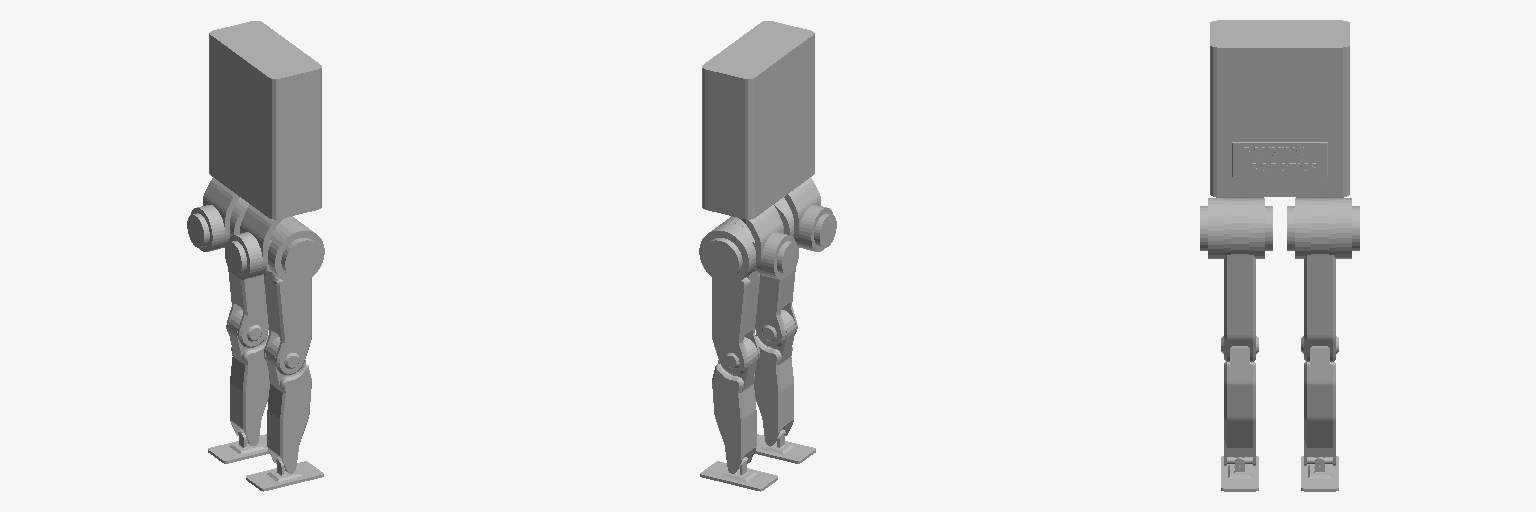
robot.urdf — dwarf:
<?xml version="1.0" encoding="utf-8"?>
<robot
  name="dwarf">
  <link
    name="base_link">
    <inertial>
      <origin
        xyz="0.0068392 1.0436E-05 0.083505"
        rpy="0 0 0" />
      <mass
        value="2.6893" />
      <inertia
        ixx="0.0098058"
        ixy="4.9971E-08"
        ixz="9.4482E-05"
        iyy="0.0053708"
        iyz="2.3438E-09"
        izz="0.0071985" />
    </inertial>
    <visual>
      <origin
        xyz="0 0 0"
        rpy="0 0 0" />
      <geometry>
        <mesh
          filename="package://description/model/urdf/dwarf/meshes/base_link.STL" />
      </geometry>
      <material
        name="">
        <color
          rgba="0.75294 0.75294 0.75294 1" />
      </material>
    </visual>
    <collision>
      <origin
        xyz="0 0 0"
        rpy="0 0 0" />
      <geometry>
        <mesh
          filename="package://description/model/urdf/dwarf/meshes/base_link.STL" />
      </geometry>
    </collision>
  </link>
  <link
    name="l_hip_z_link">
    <inertial>
      <origin
        xyz="-0.064817 6.9619E-08 0.014495"
        rpy="0 0 0" />
      <mass
        value="0.52548" />
      <inertia
        ixx="0.00046561"
        ixy="5.5145E-10"
        ixz="-7.8365E-05"
        iyy="0.00038979"
        iyz="7.8212E-10"
        izz="0.00030048" />
    </inertial>
    <visual>
      <origin
        xyz="0 0 0"
        rpy="0 0 0" />
      <geometry>
        <mesh
          filename="package://description/model/urdf/dwarf/meshes/l_hip_z_link.STL" />
      </geometry>
      <material
        name="">
        <color
          rgba="0.75294 0.75294 0.75294 1" />
      </material>
    </visual>
    <collision>
      <origin
        xyz="0 0 0"
        rpy="0 0 0" />
      <geometry>
        <mesh
          filename="package://description/model/urdf/dwarf/meshes/l_hip_z_link.STL" />
      </geometry>
    </collision>
  </link>
  <joint
    name="l_hip_z_joint"
    type="revolute">
    <origin
      xyz="0 0.0625 -0.0976"
      rpy="0 0 0" />
    <parent
      link="base_link" />
    <child
      link="l_hip_z_link" />
    <axis
      xyz="0 0 1" />
    <limit
      lower="-0.785"
      upper="0.785"
      effort="6"
      velocity="20" />
  </joint>
  <link
    name="l_hip_x_link">
    <inertial>
      <origin
        xyz="-0.0027836 0.03675 -2.2289E-08"
        rpy="0 0 0" />
      <mass
        value="0.68764" />
      <inertia
        ixx="0.00043068"
        ixy="-1.5772E-05"
        ixz="-5.2661E-10"
        iyy="0.00076066"
        iyz="-2.1988E-10"
        izz="0.00047342" />
    </inertial>
    <visual>
      <origin
        xyz="0 0 0"
        rpy="0 0 0" />
      <geometry>
        <mesh
          filename="package://description/model/urdf/dwarf/meshes/l_hip_x_link.STL" />
      </geometry>
      <material
        name="">
        <color
          rgba="0.75294 0.75294 0.75294 1" />
      </material>
    </visual>
    <collision>
      <origin
        xyz="0 0 0"
        rpy="0 0 0" />
      <geometry>
        <mesh
          filename="package://description/model/urdf/dwarf/meshes/l_hip_x_link.STL" />
      </geometry>
    </collision>
  </link>
  <joint
    name="l_hip_x_joint"
    type="revolute">
    <origin
      xyz="0 0 0"
      rpy="0 0 0" />
    <parent
      link="l_hip_z_link" />
    <child
      link="l_hip_x_link" />
    <axis
      xyz="1 0 0" />
    <limit
      lower="-0.523"
      upper="0.785"
      effort="8"
      velocity="20" />
  </joint>
  <link
    name="l_hip_y_link">
    <inertial>
      <origin
        xyz="0.00124509715095543 -0.0181108406254454 -0.0268215324144253"
        rpy="0 0 0" />
      <mass
        value="0.879426303698116" />
      <inertia
        ixx="0.00155905784910185"
        ixy="-4.01402271672183E-07"
        ixz="5.23750882569672E-05"
        iyy="0.00190482718607552"
        iyz="5.56322294870322E-06"
        izz="0.000487525681425297" />
    </inertial>
    <visual>
      <origin
        xyz="0 0 0"
        rpy="0 0 0" />
      <geometry>
        <mesh
          filename="package://description/model/urdf/dwarf/meshes/l_hip_y_link.STL" />
      </geometry>
      <material
        name="">
        <color
          rgba="0.752941176470588 0.752941176470588 0.752941176470588 1" />
      </material>
    </visual>
    <collision>
      <origin
        xyz="0 0 0"
        rpy="0 0 0" />
      <geometry>
        <mesh
          filename="package://description/model/urdf/dwarf/meshes/l_hip_y_link.STL" />
      </geometry>
    </collision>
  </link>
  <joint
    name="l_hip_y_joint"
    type="revolute">
    <origin
      xyz="0 0 0"
      rpy="0 0 0" />
    <parent
      link="l_hip_x_link" />
    <child
      link="l_hip_y_link" />
    <axis
      xyz="0 1 0" />
    <limit
      lower="-2.024"
      upper="0.5"
      effort="8"
      velocity="20" />
  </joint>
  <link
    name="l_knee_y_link">
    <inertial>
      <origin
        xyz="0.00710245391866418 0.000839155677053054 -0.0757645032512213"
        rpy="0 0 0" />
      <mass
        value="0.527089426699505" />
      <inertia
        ixx="0.000704915216416722"
        ixy="-4.76265439760832E-07"
        ixz="-1.86316764480535E-05"
        iyy="0.000782426869890322"
        iyz="2.16462639835199E-06"
        izz="0.000129570094293804" />
    </inertial>
    <visual>
      <origin
        xyz="0 0 0"
        rpy="0 0 0" />
      <geometry>
        <mesh
          filename="package://description/model/urdf/dwarf/meshes/l_knee_y_link.STL" />
      </geometry>
      <material
        name="">
        <color
          rgba="0.752941176470588 0.752941176470588 0.752941176470588 1" />
      </material>
    </visual>
    <collision>
      <origin
        xyz="0 0 0"
        rpy="0 0 0" />
      <geometry>
        <mesh
          filename="package://description/model/urdf/dwarf/meshes/l_knee_y_link.STL" />
      </geometry>
    </collision>
  </link>
  <joint
    name="l_knee_y_joint"
    type="revolute">
    <origin
      xyz="0 0 -0.2"
      rpy="0 0 0" />
    <parent
      link="l_hip_y_link" />
    <child
      link="l_knee_y_link" />
    <axis
      xyz="0 1 0" />
    <limit
      lower="0"
      upper="2.2"
      effort="12"
      velocity="20" />
  </joint>
  <link
    name="l_ankle_y_link">
    <inertial>
      <origin
        xyz="-3.56954424352018E-10 -5.9963648352257E-09 -1.47393208749236E-12"
        rpy="0 0 0" />
      <mass
        value="0.010913832988473" />
      <inertia
        ixx="1.90596155834406E-06"
        ixy="5.77039537176499E-16"
        ixz="-8.73480369999165E-13"
        iyy="1.10485071159351E-07"
        iyz="2.29287942233869E-13"
        izz="1.92371341930651E-06" />
    </inertial>
    <visual>
      <origin
        xyz="0 0 0"
        rpy="0 0 0" />
      <geometry>
        <mesh
          filename="package://description/model/urdf/dwarf/meshes/l_ankle_y_link.STL" />
      </geometry>
      <material
        name="">
        <color
          rgba="0.752941176470588 0.752941176470588 0.752941176470588 1" />
      </material>
    </visual>
    <collision>
      <origin
        xyz="0 0 0"
        rpy="0 0 0" />
      <geometry>
        <mesh
          filename="package://description/model/urdf/dwarf/meshes/l_ankle_y_link.STL" />
      </geometry>
    </collision>
  </link>
  <joint
    name="l_ankle_y_joint"
    type="revolute">
    <origin
      xyz="0 0 -0.2"
      rpy="0 0 0" />
    <parent
      link="l_knee_y_link" />
    <child
      link="l_ankle_y_link" />
    <axis
      xyz="0 1 0" />
    <limit
      lower="-1.134"
      upper="0.872"
      effort="2"
      velocity="20" />
  </joint>
  <link
    name="l_ankle_x_link">
    <inertial>
      <origin
        xyz="-0.00128648028692233 5.55374695537791E-09 -0.0184464108832921"
        rpy="0 0 0" />
      <mass
        value="0.05976663040582" />
      <inertia
        ixx="1.55718211567763E-05"
        ixy="4.61604480722049E-12"
        ixz="9.54984081587471E-07"
        iyy="5.62428903887595E-05"
        iyz="5.81985939474174E-12"
        izz="6.82858061214022E-05" />
    </inertial>
    <visual>
      <origin
        xyz="0 0 0"
        rpy="0 0 0" />
      <geometry>
        <mesh
          filename="package://description/model/urdf/dwarf/meshes/l_ankle_x_link.STL" />
      </geometry>
      <material
        name="">
        <color
          rgba="0.752941176470588 0.752941176470588 0.752941176470588 1" />
      </material>
    </visual>
    <collision>
      <origin
        xyz="0 0 0"
        rpy="0 0 0" />
      <geometry>
        <mesh
          filename="package://description/model/urdf/dwarf/meshes/l_ankle_x_link.STL" />
      </geometry>
    </collision>
  </link>
  <joint
    name="l_ankle_x_joint"
    type="revolute">
    <origin
      xyz="0 0 0"
      rpy="0 0 0" />
    <parent
      link="l_ankle_y_link" />
    <child
      link="l_ankle_x_link" />
    <axis
      xyz="1 0 0" />
    <limit
      lower="-0.349"
      upper="0.349"
      effort="1"
      velocity="20" />
  </joint>
  <link
    name="r_hip_z_link">
    <inertial>
      <origin
        xyz="-0.0648171153102327 6.96192279936447E-08 0.0144946835968221"
        rpy="0 0 0" />
      <mass
        value="0.525478813265369" />
      <inertia
        ixx="0.000465614047867923"
        ixy="5.51447244204261E-10"
        ixz="-7.83647581842767E-05"
        iyy="0.000389794744504201"
        iyz="7.82119931452291E-10"
        izz="0.000300483764018686" />
    </inertial>
    <visual>
      <origin
        xyz="0 0 0"
        rpy="0 0 0" />
      <geometry>
        <mesh
          filename="package://description/model/urdf/dwarf/meshes/r_hip_z_link.STL" />
      </geometry>
      <material
        name="">
        <color
          rgba="0.752941176470588 0.752941176470588 0.752941176470588 1" />
      </material>
    </visual>
    <collision>
      <origin
        xyz="0 0 0"
        rpy="0 0 0" />
      <geometry>
        <mesh
          filename="package://description/model/urdf/dwarf/meshes/r_hip_z_link.STL" />
      </geometry>
    </collision>
  </link>
  <joint
    name="r_hip_z_joint"
    type="revolute">
    <origin
      xyz="0 -0.0625 -0.0976"
      rpy="0 0 0" />
    <parent
      link="base_link" />
    <child
      link="r_hip_z_link" />
    <axis
      xyz="0 0 1" />
    <limit
      lower="-0.785"
      upper="0.785"
      effort="6"
      velocity="20" />
  </joint>
  <link
    name="r_hip_x_link">
    <inertial>
      <origin
        xyz="-0.00278359797173064 -0.0367495625913438 2.22895785162436E-08"
        rpy="0 0 0" />
      <mass
        value="0.687640451875291" />
      <inertia
        ixx="0.000430678234824923"
        ixy="1.57720977537199E-05"
        ixz="5.2660852310129E-10"
        iyy="0.000760658296850431"
        iyz="-2.19876655846566E-10"
        izz="0.000473424899030397" />
    </inertial>
    <visual>
      <origin
        xyz="0 0 0"
        rpy="0 0 0" />
      <geometry>
        <mesh
          filename="package://description/model/urdf/dwarf/meshes/r_hip_x_link.STL" />
      </geometry>
      <material
        name="">
        <color
          rgba="0.752941176470588 0.752941176470588 0.752941176470588 1" />
      </material>
    </visual>
    <collision>
      <origin
        xyz="0 0 0"
        rpy="0 0 0" />
      <geometry>
        <mesh
          filename="package://description/model/urdf/dwarf/meshes/r_hip_x_link.STL" />
      </geometry>
    </collision>
  </link>
  <joint
    name="r_hip_x_joint"
    type="revolute">
    <origin
      xyz="0 0 0"
      rpy="0 0 0" />
    <parent
      link="r_hip_z_link" />
    <child
      link="r_hip_x_link" />
    <axis
      xyz="1 0 0" />
    <limit
      lower="-0.785"
      upper="0.523"
      effort="8"
      velocity="20" />
  </joint>
  <link
    name="r_hip_y_link">
    <inertial>
      <origin
        xyz="0.00179738911658307 0.0181105143205143 -0.0267542682581269"
        rpy="0 0 0" />
      <mass
        value="0.879425956734143" />
      <inertia
        ixx="0.00156016615153423"
        ixy="5.80391068939658E-07"
        ixz="4.23499263659916E-05"
        iyy="0.00190482779168223"
        iyz="-5.67513436727745E-06"
        izz="0.000486418482301438" />
    </inertial>
    <visual>
      <origin
        xyz="0 0 0"
        rpy="0 0 0" />
      <geometry>
        <mesh
          filename="package://description/model/urdf/dwarf/meshes/r_hip_y_link.STL" />
      </geometry>
      <material
        name="">
        <color
          rgba="0.752941176470588 0.752941176470588 0.752941176470588 1" />
      </material>
    </visual>
    <collision>
      <origin
        xyz="0 0 0"
        rpy="0 0 0" />
      <geometry>
        <mesh
          filename="package://description/model/urdf/dwarf/meshes/r_hip_y_link.STL" />
      </geometry>
    </collision>
  </link>
  <joint
    name="r_hip_y_joint"
    type="revolute">
    <origin
      xyz="0 0 0"
      rpy="0 0 0" />
    <parent
      link="r_hip_x_link" />
    <child
      link="r_hip_y_link" />
    <axis
      xyz="0 1 0" />
    <limit
      lower="-2.024"
      upper="0.5"
      effort="8"
      velocity="20" />
  </joint>
  <link
    name="r_knee_y_link">
    <inertial>
      <origin
        xyz="0.00710245415213927 -0.000839155493262508 -0.0757645080168379"
        rpy="0 0 0" />
      <mass
        value="0.527089463148088" />
      <inertia
        ixx="0.0007049163677575"
        ixy="4.76972544940647E-07"
        ixz="-1.86318427389797E-05"
        iyy="0.000782426133909345"
        iyz="-2.16470454419427E-06"
        izz="0.000129570125586677" />
    </inertial>
    <visual>
      <origin
        xyz="0 0 0"
        rpy="0 0 0" />
      <geometry>
        <mesh
          filename="package://description/model/urdf/dwarf/meshes/r_knee_y_link.STL" />
      </geometry>
      <material
        name="">
        <color
          rgba="0.752941176470588 0.752941176470588 0.752941176470588 1" />
      </material>
    </visual>
    <collision>
      <origin
        xyz="0 0 0"
        rpy="0 0 0" />
      <geometry>
        <mesh
          filename="package://description/model/urdf/dwarf/meshes/r_knee_y_link.STL" />
      </geometry>
    </collision>
  </link>
  <joint
    name="r_knee_y_joint"
    type="revolute">
    <origin
      xyz="0 0 -0.2"
      rpy="0 0 0" />
    <parent
      link="r_hip_y_link" />
    <child
      link="r_knee_y_link" />
    <axis
      xyz="0 1 0" />
    <limit
      lower="0"
      upper="2.2"
      effort="12"
      velocity="20" />
  </joint>
  <link
    name="r_ankle_y_link">
    <inertial>
      <origin
        xyz="-4.13186831971224E-10 -5.99636477971455E-09 0"
        rpy="0 0 0" />
      <mass
        value="0.010913832988473" />
      <inertia
        ixx="1.90596155834406E-06"
        ixy="5.77037633135559E-16"
        ixz="-8.73477874303164E-13"
        iyy="1.10485071159351E-07"
        iyz="2.29287943311938E-13"
        izz="1.92371341930651E-06" />
    </inertial>
    <visual>
      <origin
        xyz="0 0 0"
        rpy="0 0 0" />
      <geometry>
        <mesh
          filename="package://description/model/urdf/dwarf/meshes/r_ankle_y_link.STL" />
      </geometry>
      <material
        name="">
        <color
          rgba="0.752941176470588 0.752941176470588 0.752941176470588 1" />
      </material>
    </visual>
    <collision>
      <origin
        xyz="0 0 0"
        rpy="0 0 0" />
      <geometry>
        <mesh
          filename="package://description/model/urdf/dwarf/meshes/r_ankle_y_link.STL" />
      </geometry>
    </collision>
  </link>
  <joint
    name="r_ankle_y_joint"
    type="revolute">
    <origin
      xyz="0 0 -0.2"
      rpy="0 0 0" />
    <parent
      link="r_knee_y_link" />
    <child
      link="r_ankle_y_link" />
    <axis
      xyz="0 1 0" />
    <limit
      lower="-1.134"
      upper="0.872"
      effort="2"
      velocity="20" />
  </joint>
  <link
    name="r_ankle_x_link">
    <inertial>
      <origin
        xyz="-0.00128648010153237 5.33019742926522E-09 -0.0184464112962747"
        rpy="0 0 0" />
      <mass
        value="0.0597666285978986" />
      <inertia
        ixx="1.55718207614355E-05"
        ixy="4.51533220827267E-12"
        ixz="9.54983846744379E-07"
        iyy="5.62428898500431E-05"
        iyz="5.94521756533254E-12"
        izz="6.8285806096514E-05" />
    </inertial>
    <visual>
      <origin
        xyz="0 0 0"
        rpy="0 0 0" />
      <geometry>
        <mesh
          filename="package://description/model/urdf/dwarf/meshes/r_ankle_x_link.STL" />
      </geometry>
      <material
        name="">
        <color
          rgba="0.752941176470588 0.752941176470588 0.752941176470588 1" />
      </material>
    </visual>
    <collision>
      <origin
        xyz="0 0 0"
        rpy="0 0 0" />
      <geometry>
        <mesh
          filename="package://description/model/urdf/dwarf/meshes/r_ankle_x_link.STL" />
      </geometry>
    </collision>
  </link>
  <joint
    name="r_ankle_x_joint"
    type="revolute">
    <origin
      xyz="0 0 0"
      rpy="0 0 0" />
    <parent
      link="r_ankle_y_link" />
    <child
      link="r_ankle_x_link" />
    <axis
      xyz="1 0 0" />
    <limit
      lower="-0.349"
      upper="0.349"
      effort="1"
      velocity="20" />
  </joint>

  <link name="contact1"/>
  <link name="contact2"/>
  <link name="contact3"/>
  <link name="contact4" />
  <link name="contact5"/>
  <link name="contact6"/>
  <link name="contact7"/>
  <link name="contact8"/>
  <link name="imu_link"/>

  <joint name="contact1_joint" type="fixed">
    <origin rpy="0 0 0" xyz="0.06 0.03 -0.025"/>
    <parent link="l_ankle_x_link"/>
    <child link="contact1"/>
  </joint>
  <joint name="contact2_joint" type="fixed">
    <origin rpy="0 0 0" xyz="0.06 -0.03 -0.025"/>
    <parent link="l_ankle_x_link"/>
    <child link="contact2"/>
  </joint>
  <joint name="contact3_joint" type="fixed">
    <origin rpy="0 0 0" xyz="-0.06 0.03 -0.025"/>
    <parent link="l_ankle_x_link"/>
    <child link="contact3"/>
  </joint>
  <joint name="contact4_joint" type="fixed">
    <origin rpy="0 0 0" xyz="-0.06 -0.03 -0.025"/>
    <parent link="l_ankle_x_link"/>
    <child link="contact4"/>
  </joint>
  <joint name="contact5_joint" type="fixed">
    <origin rpy="0 0 0" xyz="0.06 0.03 -0.025"/>
    <parent link="r_ankle_x_link"/>
    <child link="contact5"/>
  </joint>
  <joint name="contact6_joint" type="fixed">
    <origin rpy="0 0 0" xyz="0.06 -0.03 -0.025"/>
    <parent link="r_ankle_x_link"/>
    <child link="contact6"/>
  </joint>
  <joint name="contact7_joint" type="fixed">
    <origin rpy="0 0 0" xyz="-0.06 0.03 -0.025"/>
    <parent link="r_ankle_x_link"/>
    <child link="contact7"/>
  </joint>
  <joint name="contact8_joint" type="fixed">
    <origin rpy="0 0 0" xyz="-0.06 -0.03 -0.025"/>
    <parent link="r_ankle_x_link"/>
    <child link="contact8"/>
  </joint>
  <joint name="imu_joint" type="fixed">
    <origin rpy="0 0 0" xyz="0 0 0"/>
    <parent link="base_link"/>
    <child link="imu_link"/>
  </joint>

</robot>

--- What the picture shows (computed from the rendered views, not written in the file) ---
3 views of the same robot in one strip: view 1: azimuth 30°, elevation 25°; view 2: azimuth 150°, elevation 25°; view 3: azimuth 270°, elevation 25° (orthographic).
Robot: dwarf — 22 links, 21 joints (12 revolute, 9 fixed); root link base_link; default pose: every joint at zero.
Visible links, largest first — view 1: base_link, r_hip_y_link, r_knee_y_link, l_knee_y_link, r_hip_x_link, l_hip_y_link, r_hip_z_link, l_hip_z_link, r_ankle_x_link, l_ankle_x_link; view 2: base_link, l_hip_y_link, l_knee_y_link, r_knee_y_link, l_hip_x_link, r_hip_y_link, l_hip_z_link, r_hip_z_link, l_ankle_x_link, r_ankle_x_link; view 3: base_link, l_hip_y_link, r_hip_y_link, l_knee_y_link, r_knee_y_link, l_hip_x_link, r_hip_x_link, l_ankle_x_link, r_ankle_x_link.
Boxes of the visible links, bbox=[...] form: base_link: bbox=[209, 21, 321, 219]; r_hip_y_link: bbox=[264, 216, 311, 374]; r_knee_y_link: bbox=[266, 337, 311, 473]; l_knee_y_link: bbox=[228, 310, 269, 446]; r_hip_x_link: bbox=[266, 223, 324, 283]; l_hip_y_link: bbox=[226, 197, 268, 347]; r_hip_z_link: bbox=[225, 205, 283, 279]; l_hip_z_link: bbox=[187, 177, 239, 251]; r_ankle_x_link: bbox=[246, 460, 323, 491]; l_ankle_x_link: bbox=[208, 433, 269, 463]; base_link: bbox=[702, 21, 814, 219]; l_hip_y_link: bbox=[712, 216, 759, 374]; l_knee_y_link: bbox=[712, 337, 757, 473]; r_knee_y_link: bbox=[754, 310, 795, 446]; l_hip_x_link: bbox=[699, 223, 757, 283]; r_hip_y_link: bbox=[755, 197, 797, 347]; l_hip_z_link: bbox=[739, 205, 798, 279]; r_hip_z_link: bbox=[784, 177, 836, 251]; l_ankle_x_link: bbox=[700, 460, 777, 491]; r_ankle_x_link: bbox=[754, 433, 815, 463]; base_link: bbox=[1210, 20, 1349, 196]; l_hip_y_link: bbox=[1287, 198, 1338, 361]; r_hip_y_link: bbox=[1221, 198, 1272, 361]; l_knee_y_link: bbox=[1304, 346, 1335, 465]; r_knee_y_link: bbox=[1224, 346, 1255, 465]; l_hip_x_link: bbox=[1329, 198, 1359, 258]; r_hip_x_link: bbox=[1200, 198, 1230, 258]; l_ankle_x_link: bbox=[1301, 456, 1338, 491]; r_ankle_x_link: bbox=[1221, 456, 1258, 491].
Bounding box of the posed robot: 0.1586 × 0.2512 × 0.7605 m (x, y, z).
13 mesh visuals loaded from 13 distinct referenced files (13 binary STL).